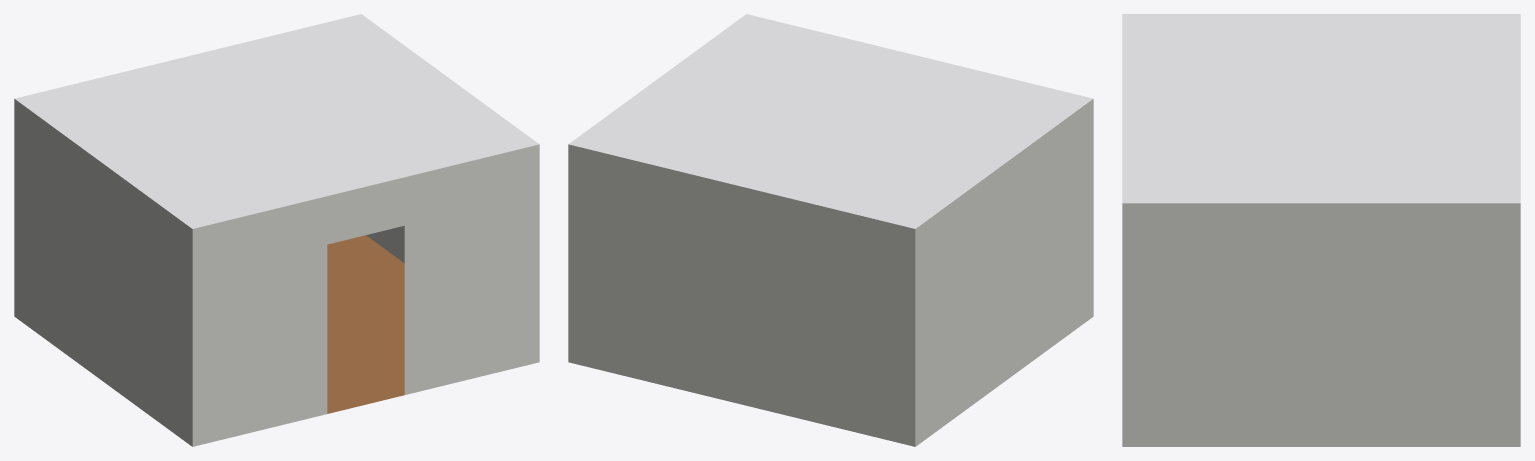
The model's file is indoor_sample_room.obj.
The picture shows the model from 3 angles, left to right: view 1: azimuth 30°, elevation 25°; view 2: azimuth 150°, elevation 25°; view 3: azimuth 270°, elevation 25°; orthographic projection. The views are drawn at different scales.
Bounding box in the file's own units: 4.5 × 2.7 × 4.
